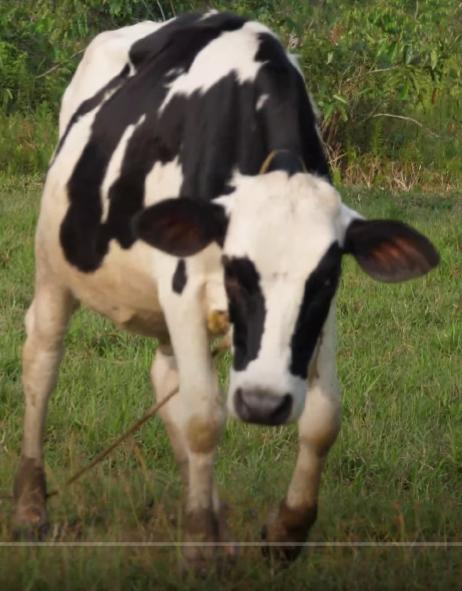cow: (13, 9, 441, 562)
